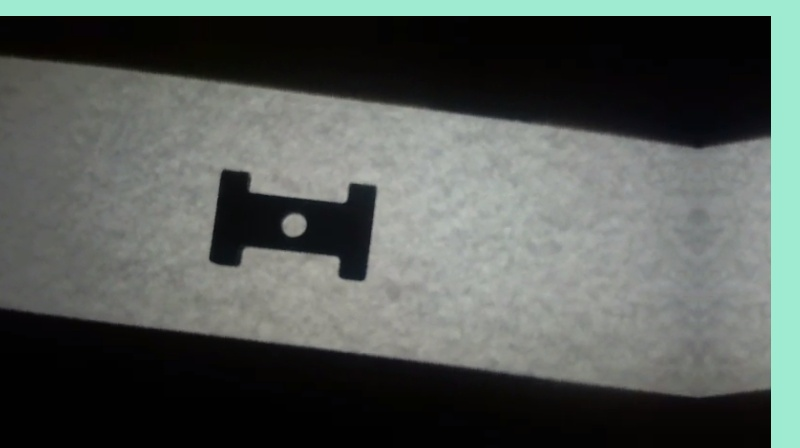O002: (205, 165, 380, 282)
